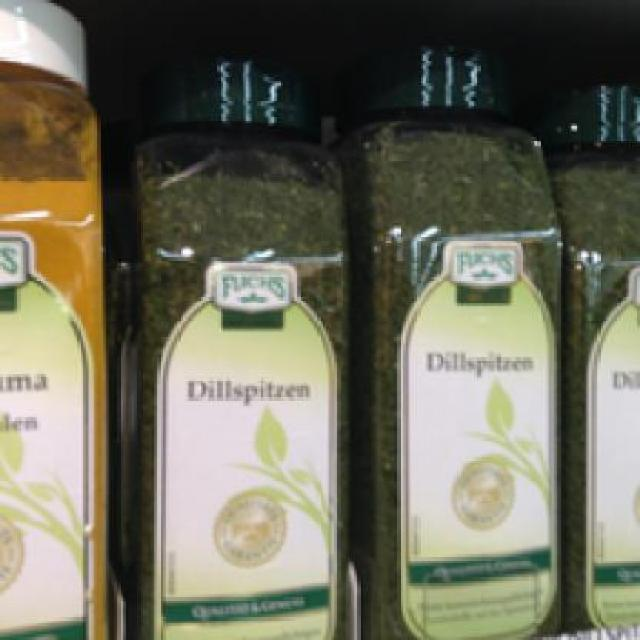Spices: (132, 34, 348, 637), (351, 25, 560, 638)
